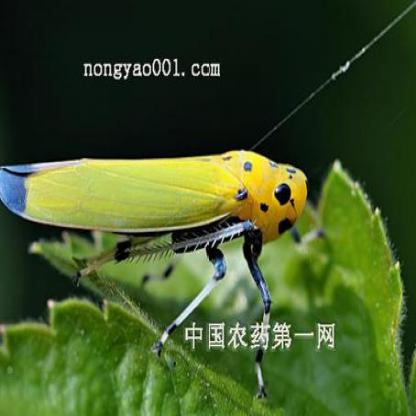Green-Leafhopper: (0, 147, 337, 395)
